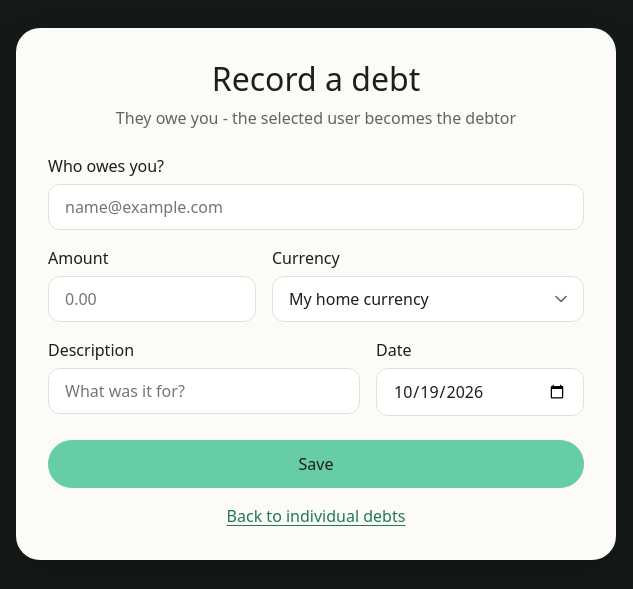
Test: AddIndividualDebt › AC1: submits a valid entry and surfaces a server-side error
The image size is (633, 589).
Type "bob" into the field labelled "Who owes you?" at (316, 207), box x1=48 y1=184 x2=584 y2=230
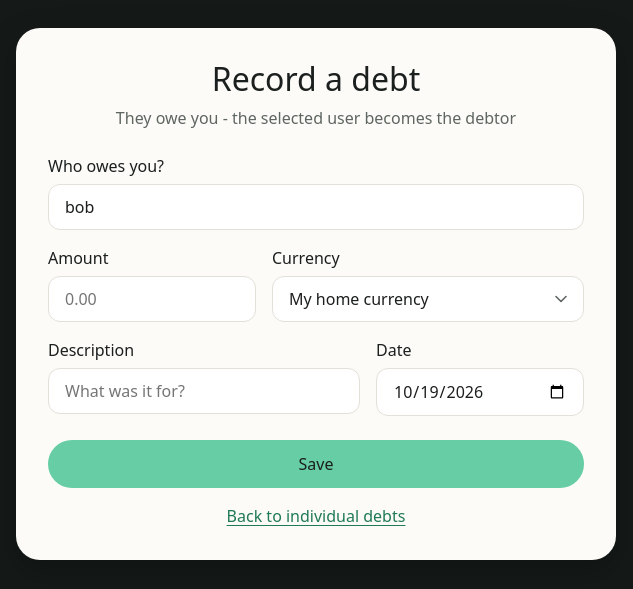
Type "25.00" into the number field labelled "Amount" at (152, 299), box x1=48 y1=276 x2=256 y2=322
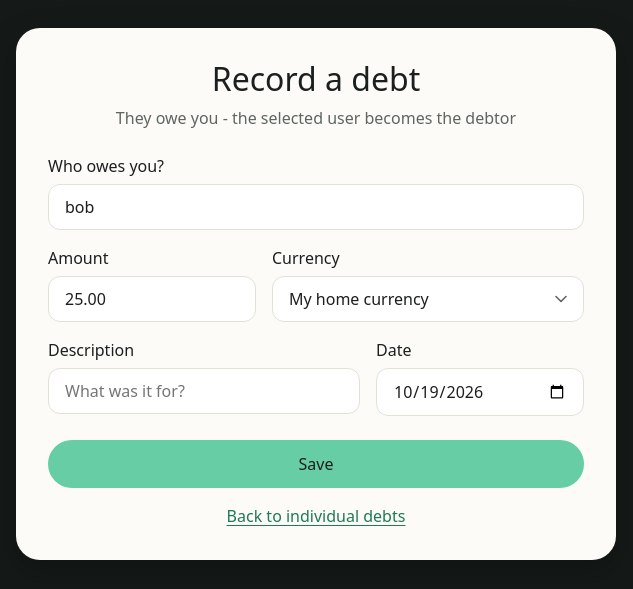
Type "Lunch" into the field labelled "Description" at (204, 391), box x1=48 y1=368 x2=360 y2=414
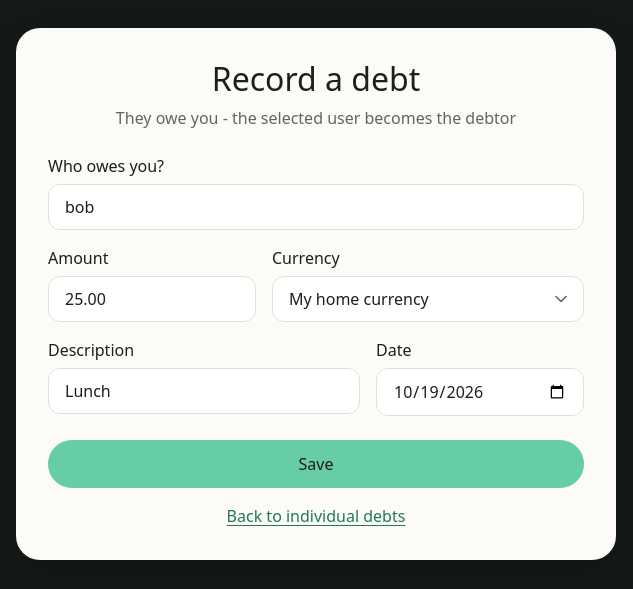
Type "2026-10-01" into the date field labelled "Date" at (480, 392), box x1=376 y1=368 x2=584 y2=416
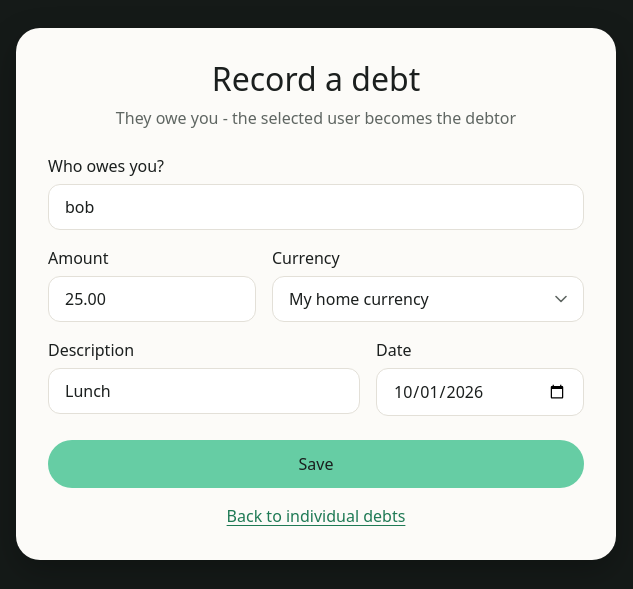
Click the button "Save" at (316, 464), box x1=48 y1=440 x2=584 y2=488
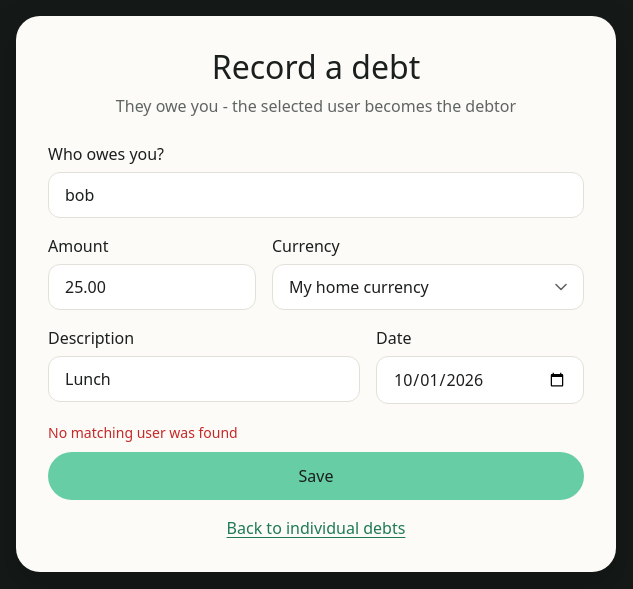
Expected: the text "No matching user was found" is shown, x1=48 y1=423 x2=238 y2=442
